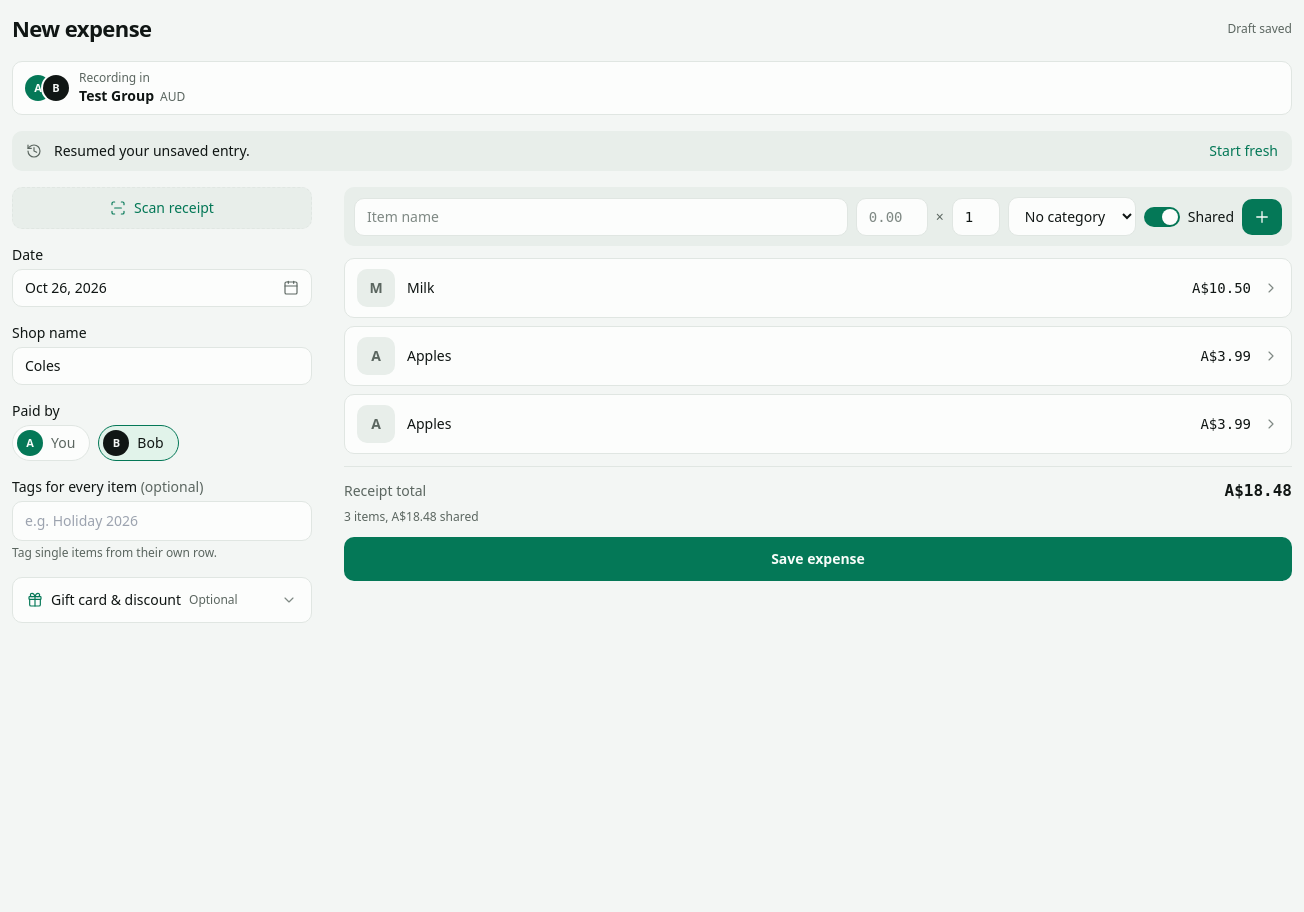
Scenario: ExpenseEditor › gift card section expands when the toggle button is clicked
The width and height of the screenshot is (1304, 912).
Click the button "Gift card & discount Optional".
click(162, 600)  # box [13,578,311,622]
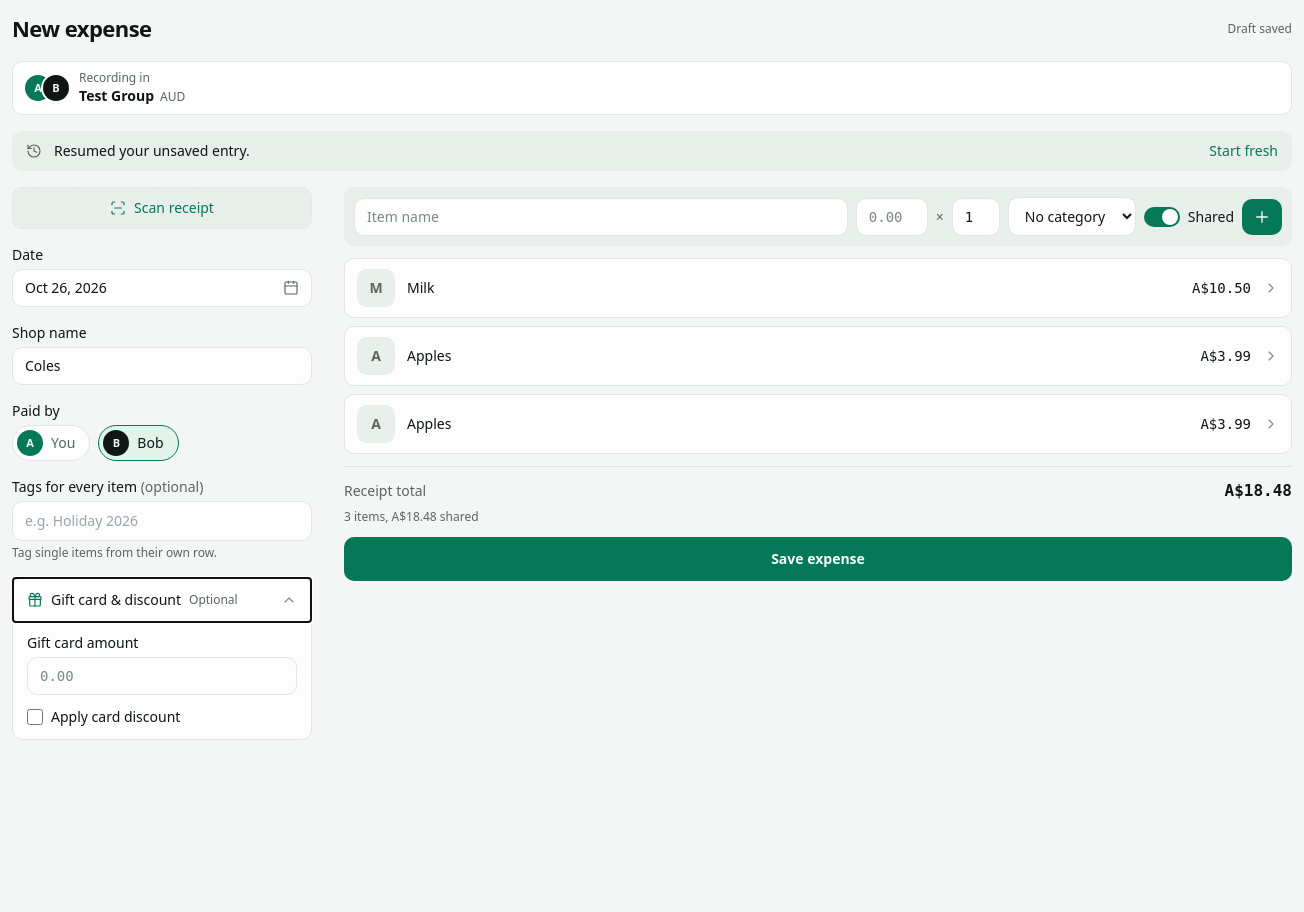
Now the field labelled "Gift card amount" is shown, box [27,657,297,695]
